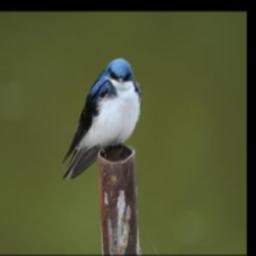Swallow: (60, 56, 143, 181)
